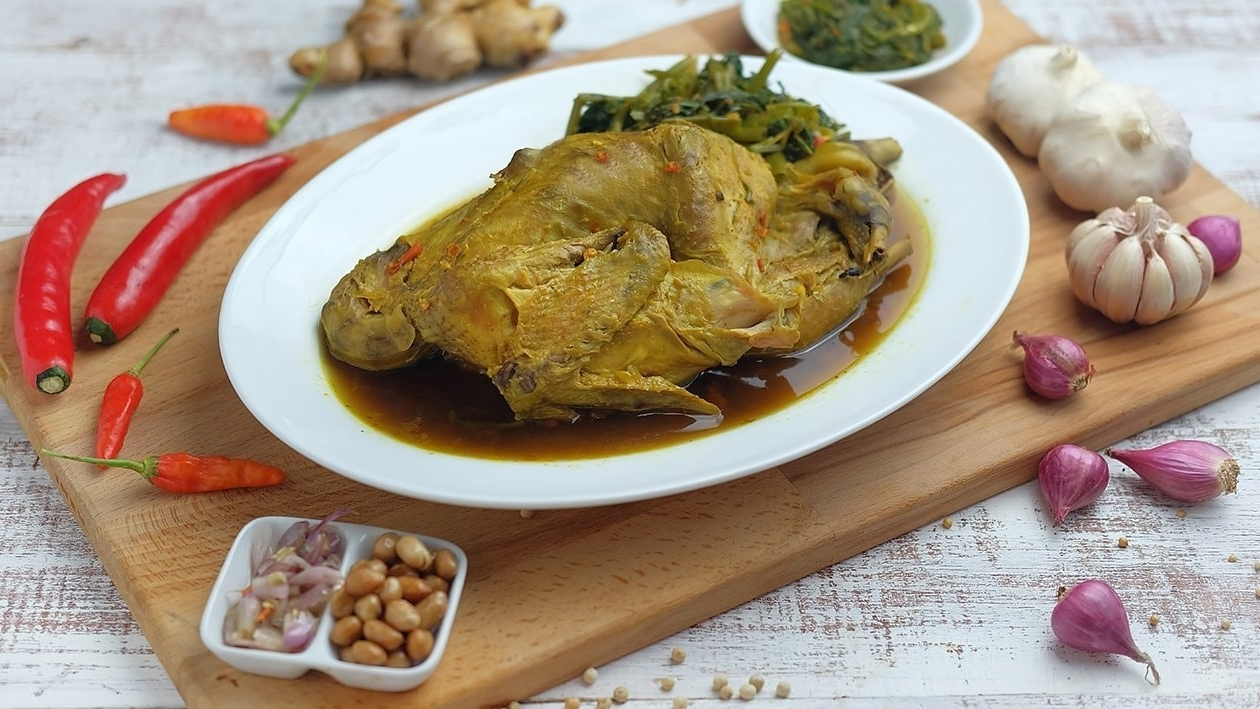ayam_betutu: (318, 124, 907, 418)
